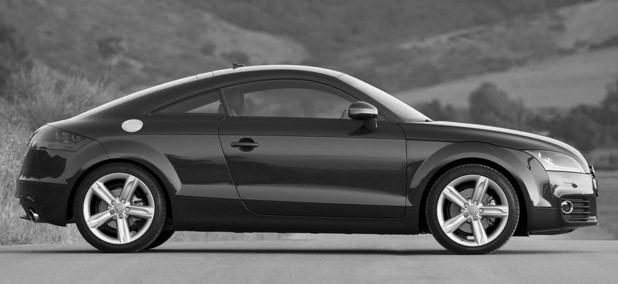car: (12, 61, 606, 259)
